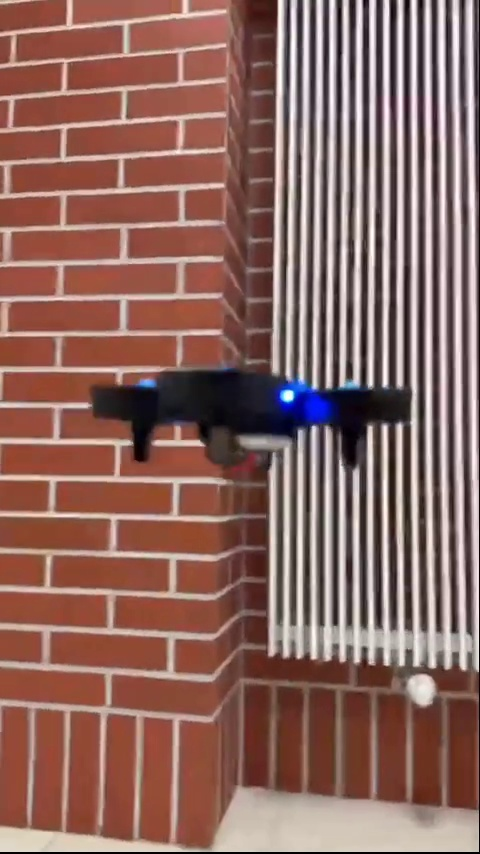drone: (90, 367, 417, 481)
